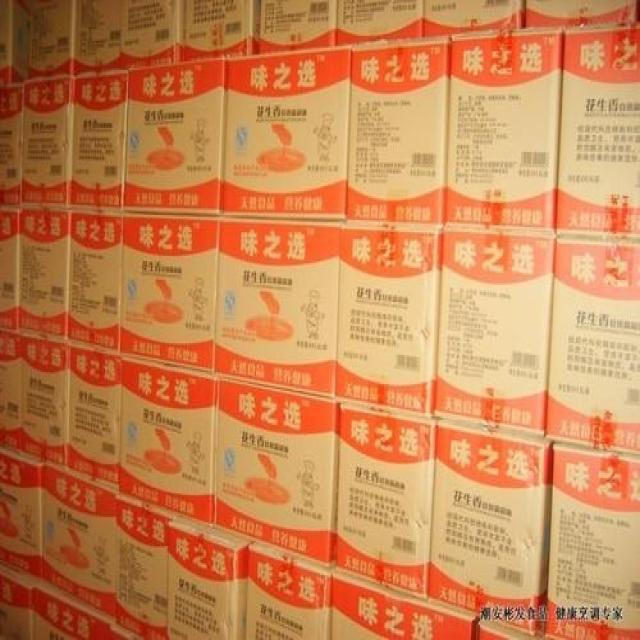box: (429, 413, 552, 635), (434, 227, 554, 433), (216, 375, 339, 565), (444, 31, 561, 229), (216, 218, 342, 398), (220, 48, 349, 218), (545, 232, 640, 451), (338, 220, 442, 410), (338, 399, 434, 601), (348, 38, 451, 225), (545, 440, 639, 640), (557, 27, 640, 230), (119, 357, 218, 527), (124, 58, 225, 215), (122, 213, 218, 372), (44, 464, 119, 621), (334, 567, 479, 640), (169, 515, 250, 638), (247, 543, 332, 640), (70, 72, 128, 210), (116, 492, 169, 640), (70, 208, 123, 353), (68, 345, 120, 488), (19, 208, 70, 340), (20, 335, 69, 468), (23, 79, 72, 207), (33, 582, 113, 638), (187, 0, 261, 60), (124, 0, 186, 70), (338, 0, 422, 48), (74, 0, 124, 77), (28, 0, 73, 80), (424, 0, 522, 36), (0, 85, 26, 210), (525, 0, 636, 27), (0, 331, 22, 454), (1, 567, 37, 638), (4, 2, 31, 85), (1, 213, 18, 331), (480, 621, 532, 638), (113, 628, 137, 640)
